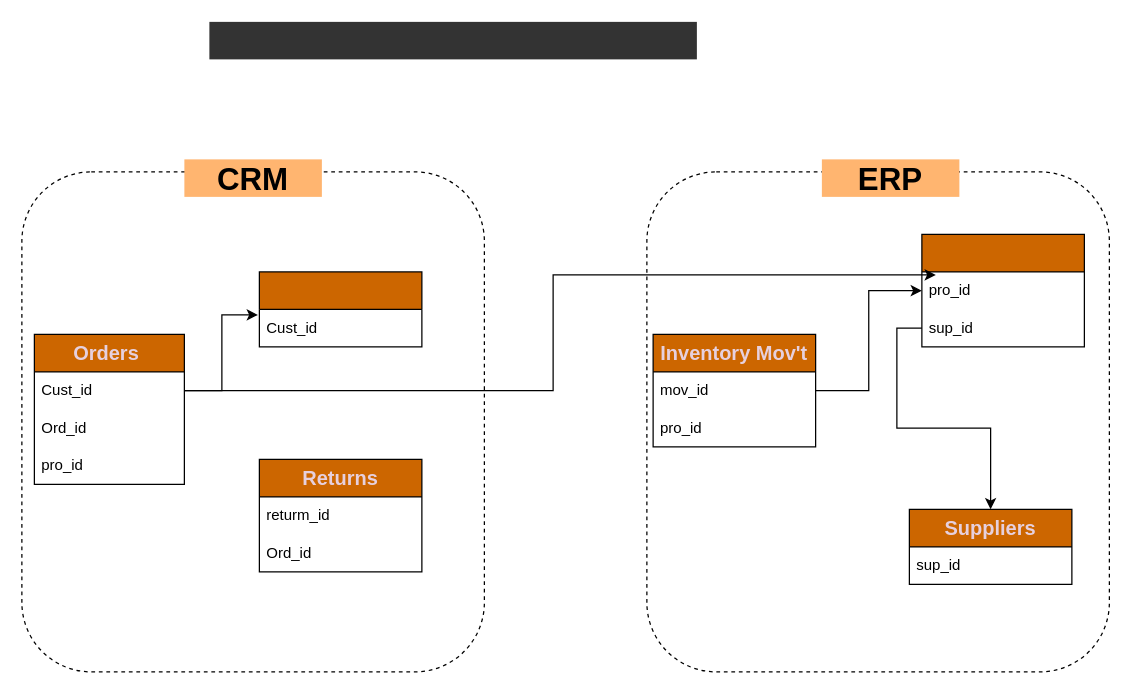
Image size: 1131x694. Some labels were removed from this diagram. The box of each missing label's shape, as (x1, y1, x2, y2) in pixels:
Customers: (258, 271, 422, 347)
DATA INTEGRATION MODEL: (209, 21, 696, 59)
Products: (921, 233, 1084, 347)
